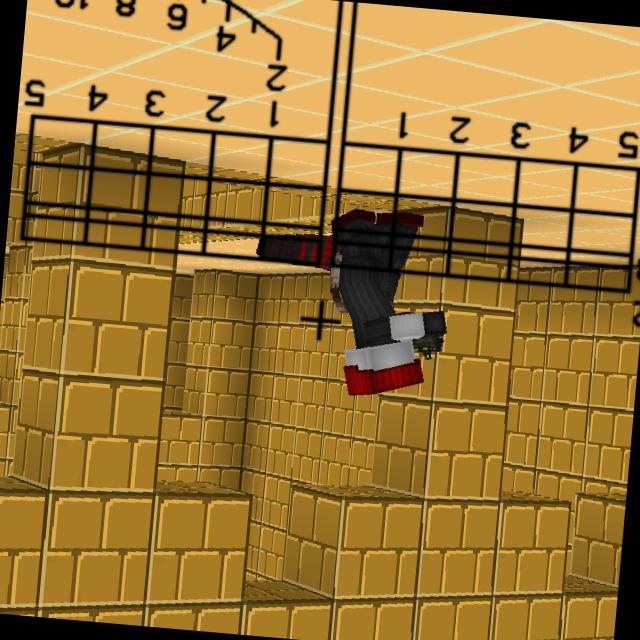enemy: (317, 204, 458, 406)
